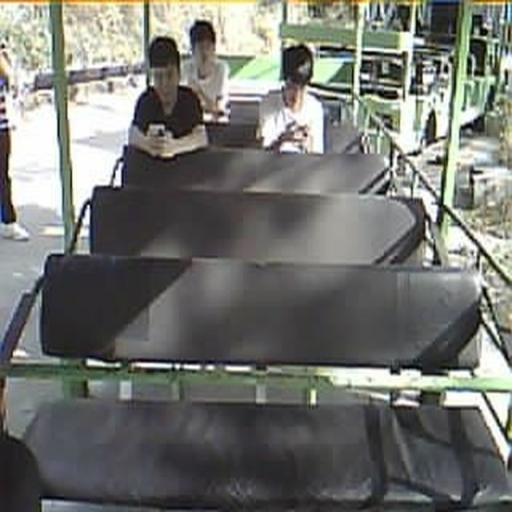persona: (128, 35, 205, 151), (260, 42, 328, 155), (180, 19, 231, 120)
